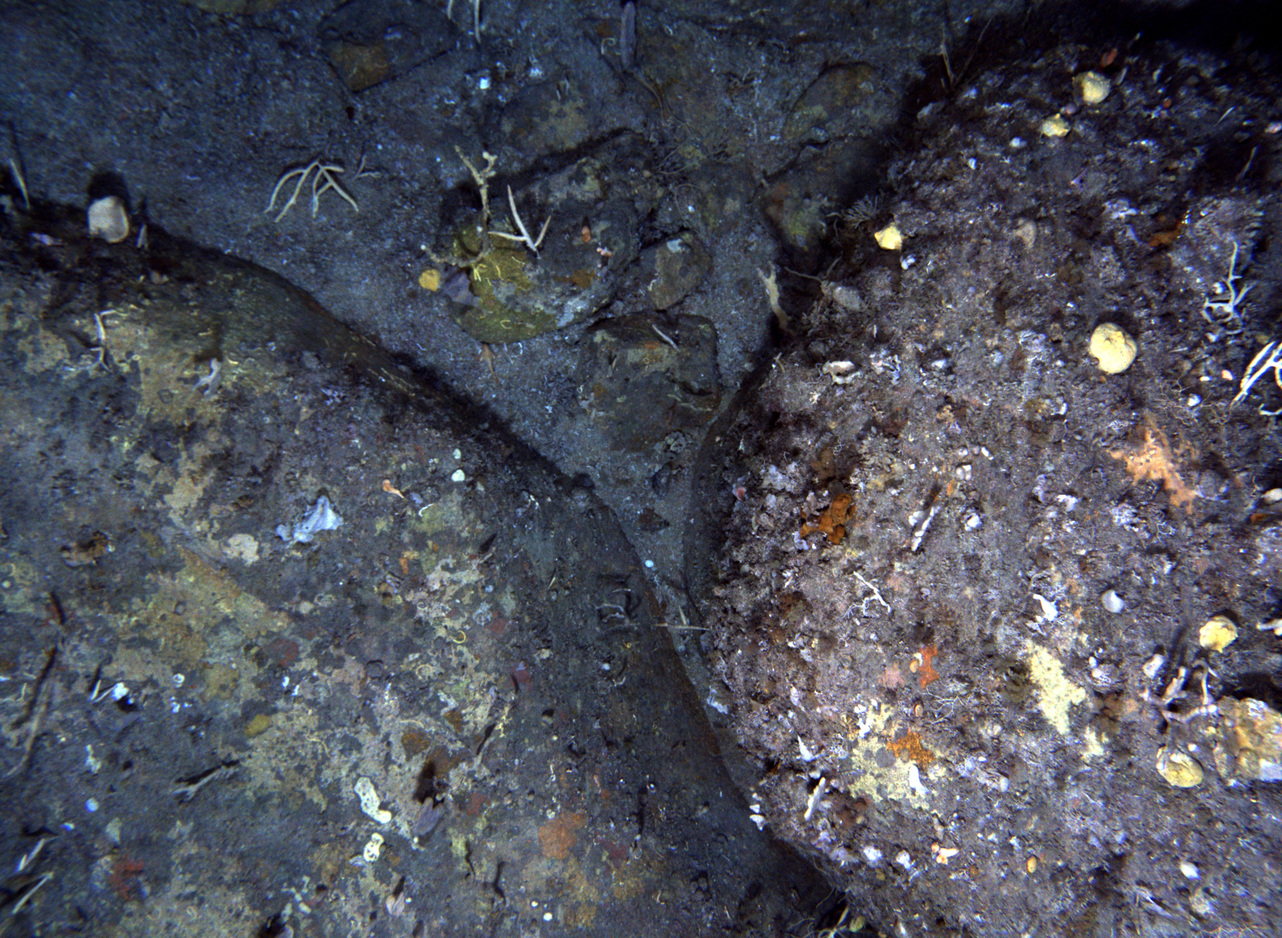Brachionichthyidae: (474, 341, 502, 384)
